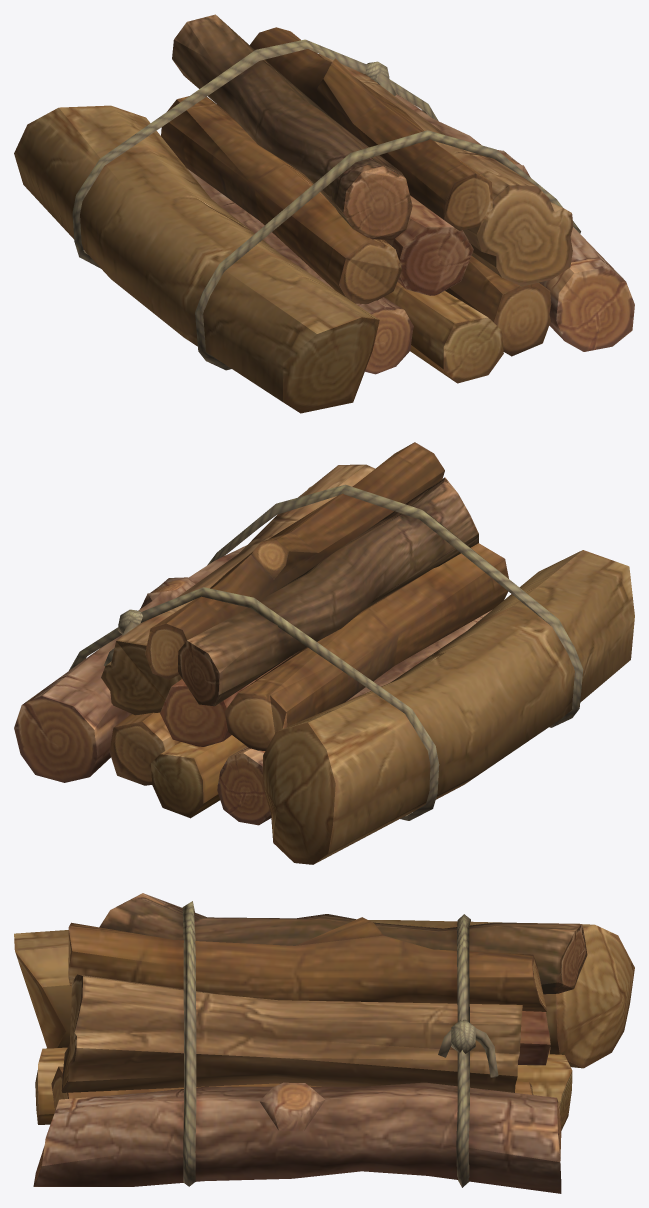
Rendered from shuzhuang01.FBX.
The picture shows the model from 3 angles, top to bottom: view 1: azimuth 30°, elevation 25°; view 2: azimuth 150°, elevation 25°; view 3: azimuth 270°, elevation 25°; orthographic projection. The views are drawn at different scales.
Parts seen in each view (by area): view 1: UE051_1; view 2: UE051_1; view 3: UE051_1.
Boxes of the visible parts, x1,y1,x2,y2 form: UE051_1: [14, 14, 634, 413]; UE051_1: [14, 442, 634, 864]; UE051_1: [14, 893, 634, 1193].
Size of the model in its own units: 191 by 94.77 by 255.
